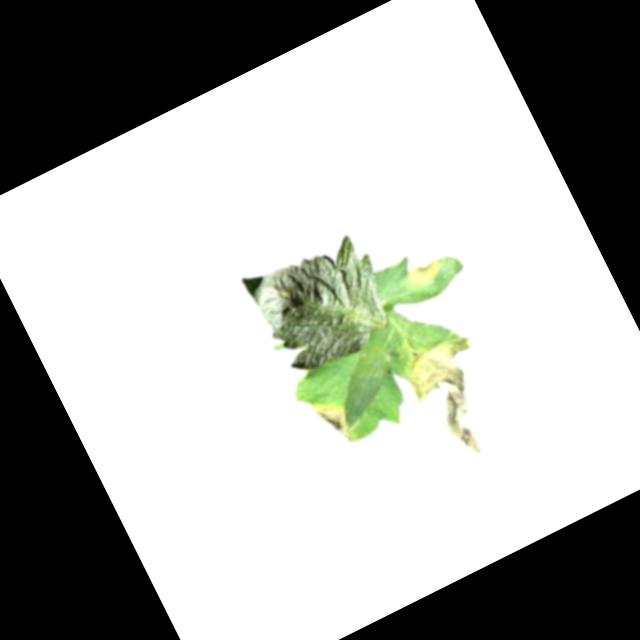Late_blight: (397, 327, 520, 471), (309, 391, 364, 452), (399, 249, 451, 296)
healthy: (240, 222, 405, 384)
